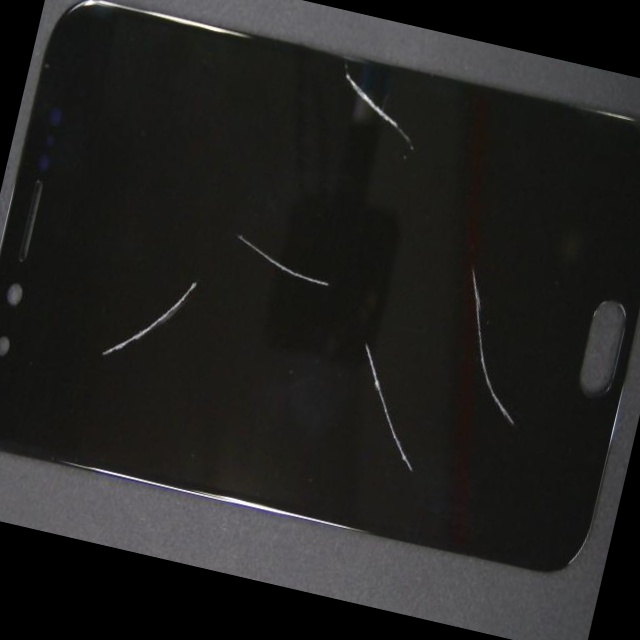scratch: (149, 221, 640, 640), (269, 273, 640, 552), (87, 68, 296, 472), (211, 144, 496, 416), (272, 74, 585, 200)
